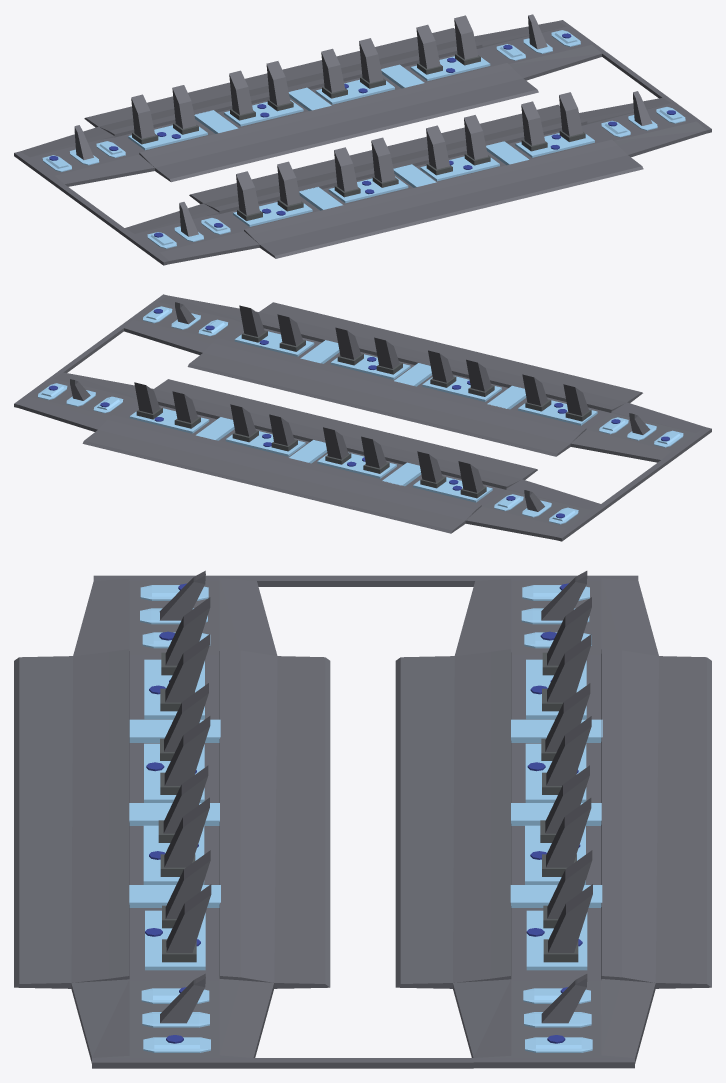
File: armadilha1.fbx
3 views of the same model, one above another, from view 1: azimuth 30°, elevation 25°; view 2: azimuth 150°, elevation 25°; view 3: azimuth 270°, elevation 25° (orthographic). The views are drawn at different scales.
Parts seen in each view (by area): view 1: Cube.022, Cube, Lãmina1.004, Lãmina1.014, Lãmina1.001, Lãmina1.011, Lãmina1.013, Lãmina1.003, Lãmina1.012, Lãmina1.002, Lãmina1.006, Lãmina1.005 (+24 smaller); view 2: Cube, Cube.022, Cube.009, Cube.031, Cube.029, Cube.007, Cube.008, Cube.030, Cube.032, Cube.010, Lãmina1.014, Lãmina1.011 (+20 smaller); view 3: Cube, Cube.022, Cube.007, Cube.029, Lãmina1.011, Lãmina1.001, Lãmina1.015, Lãmina1.005, Lãmina1.014, Lãmina1.004, Lãmina1.007, Lãmina1.017 (+26 smaller).
Part boxes in pixels (x1=…): Cube.022: x1=118, y1=52, x2=711, y2=265; Cube: x1=14, y1=20, x2=606, y2=232; Lãmina1.004: x1=266, y1=61, x2=290, y2=105; Lãmina1.014: x1=371, y1=137, x2=395, y2=182; Lãmina1.001: x1=359, y1=38, x2=383, y2=82; Lãmina1.011: x1=464, y1=115, x2=487, y2=159; Lãmina1.013: x1=334, y1=147, x2=357, y2=191; Lãmina1.003: x1=229, y1=70, x2=253, y2=114; Lãmina1.012: x1=521, y1=101, x2=545, y2=145; Lãmina1.002: x1=416, y1=24, x2=440, y2=68; Lãmina1.006: x1=131, y1=94, x2=155, y2=138; Lãmina1.005: x1=454, y1=15, x2=478, y2=59; Cube: x1=14, y1=371, x2=666, y2=541; Cube.022: x1=58, y1=294, x2=711, y2=464; Cube.009: x1=317, y1=452, x2=396, y2=478; Cube.031: x1=422, y1=376, x2=501, y2=401; Cube.029: x1=234, y1=331, x2=314, y2=356; Cube.007: x1=129, y1=408, x2=209, y2=433; Cube.008: x1=225, y1=431, x2=305, y2=456; Cube.030: x1=330, y1=354, x2=410, y2=379; Cube.032: x1=518, y1=400, x2=597, y2=425; Cube.010: x1=413, y1=477, x2=492, y2=502; Lãmina1.014: x1=428, y1=350, x2=453, y2=382; Lãmina1.011: x1=335, y1=327, x2=361, y2=359; Cube: x1=257, y1=575, x2=711, y2=1068; Cube.022: x1=14, y1=575, x2=473, y2=1068; Cube.007: x1=526, y1=910, x2=587, y2=970; Cube.029: x1=145, y1=910, x2=205, y2=970; Lãmina1.011: x1=164, y1=797, x2=209, y2=867; Lãmina1.001: x1=546, y1=798, x2=591, y2=867; Lãmina1.015: x1=166, y1=884, x2=211, y2=952; Lãmina1.005: x1=548, y1=884, x2=592, y2=952; Lãmina1.014: x1=164, y1=716, x2=210, y2=785; Lãmina1.004: x1=546, y1=716, x2=591, y2=785; Lãmina1.007: x1=547, y1=634, x2=591, y2=702; Lãmina1.017: x1=165, y1=634, x2=209, y2=702.
Bounding box in the file's own units: 1760 × 136 × 1066.
